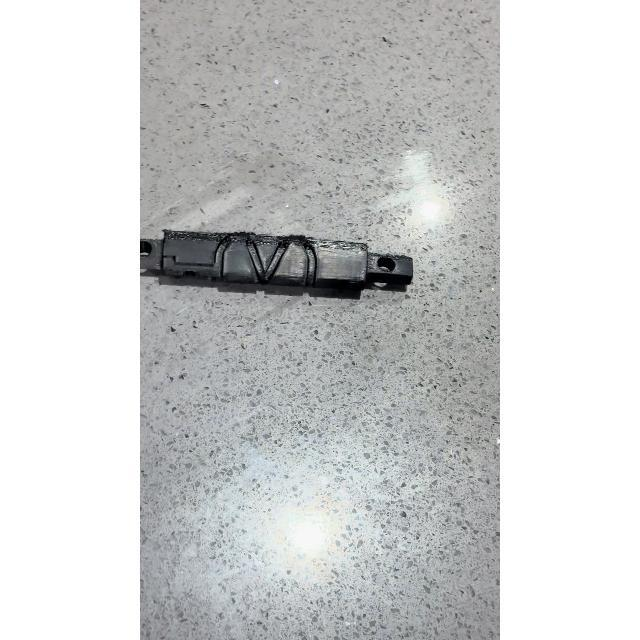Pieza1: (142, 207, 424, 316)
